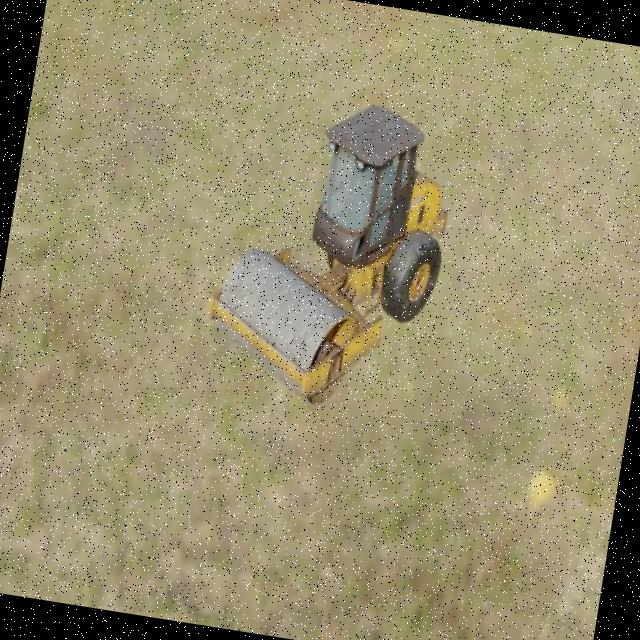Roller: (195, 82, 464, 424)
